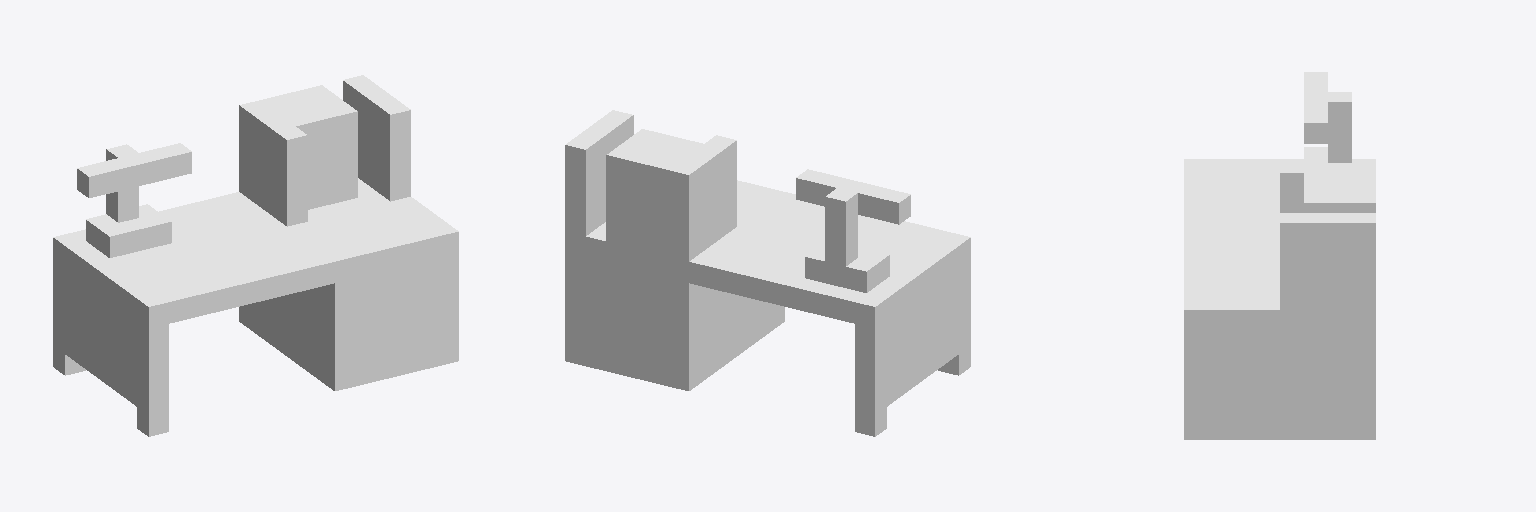
The model's file is house_heya_desk2.obj.
3 views of the same model, side by side, from view 1: azimuth 30°, elevation 25°; view 2: azimuth 150°, elevation 25°; view 3: azimuth 270°, elevation 25° (orthographic).
Size of the model in its own units: 15 by 10 by 8.